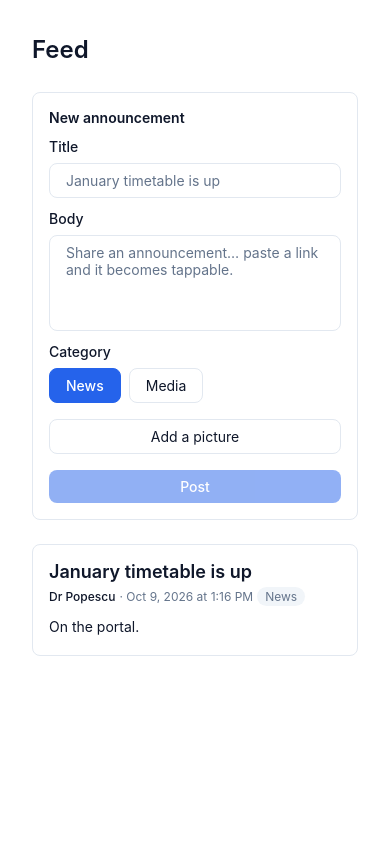
a denied photo permission shows an error instead of hanging
The image size is (390, 844).
Click the button "Add a picture".
click(195, 436)  # box [49, 419, 341, 454]
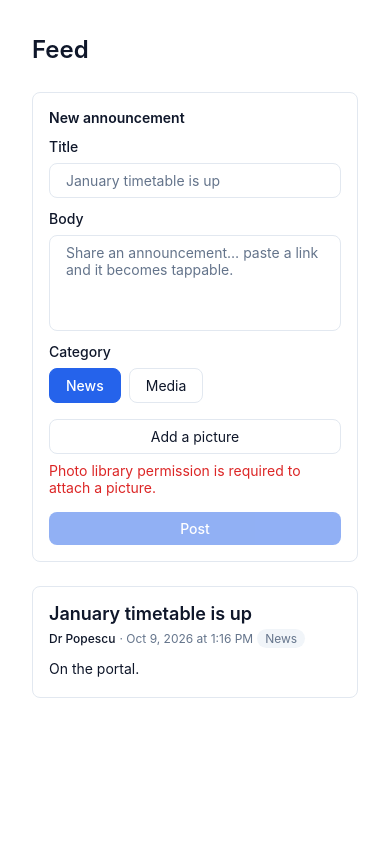
Now the text "Photo library permission is required to attach a picture." is shown, box [49, 462, 341, 496]
